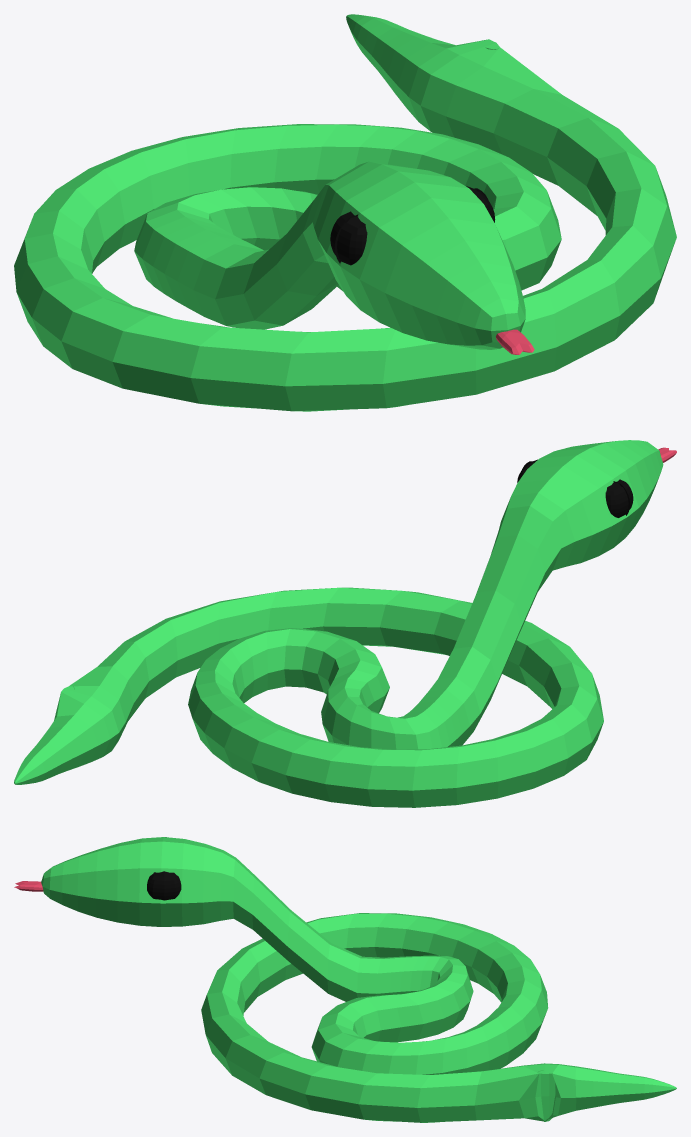
The model's file is Snake.fbx.
3 renders of one model, top to bottom at view 1: azimuth 30°, elevation 25°; view 2: azimuth 150°, elevation 25°; view 3: azimuth 270°, elevation 25°, orthographic. The views are drawn at different scales.
Parts seen in each view (by area): view 1: Snake, Eye, Cube; view 2: Snake, Eye; view 3: Snake, Eye2.
Part boxes in pixels (x1,y1,x2,y2): Snake: (14, 14, 676, 411); Eye: (330, 211, 367, 265); Cube: (496, 329, 534, 354); Snake: (14, 440, 663, 807); Eye: (605, 479, 633, 517); Snake: (41, 837, 676, 1122); Eye2: (147, 871, 181, 900).
Bounding box in the file's own units: 1490 × 643 × 2314.
